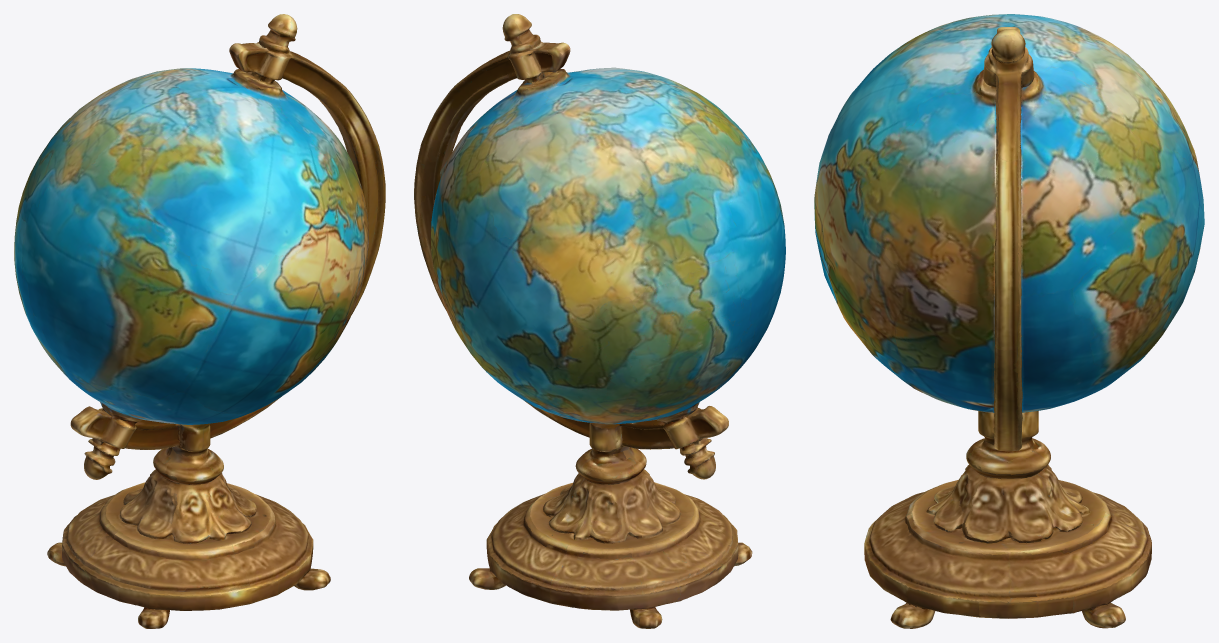
File: globe-fixed.glb
3 views of the same model, side by side, from view 1: azimuth 30°, elevation 25°; view 2: azimuth 150°, elevation 25°; view 3: azimuth 270°, elevation 25° (orthographic). The views are drawn at different scales.
Visible parts, largest first — view 1: geometry_0; view 2: geometry_0; view 3: geometry_0.
Part boxes in pixels (bbox=[...]): geometry_0: bbox=[14, 14, 385, 628]; geometry_0: bbox=[414, 14, 785, 628]; geometry_0: bbox=[814, 14, 1204, 628].
Size of the model in its own units: 0.3022 by 0.45 by 0.2639.
1 material, 1 textured.
